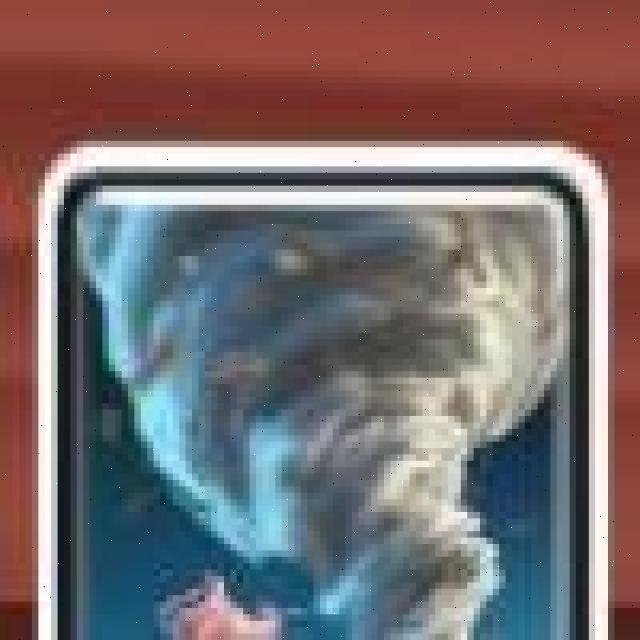Tornado: (44, 146, 612, 640)
